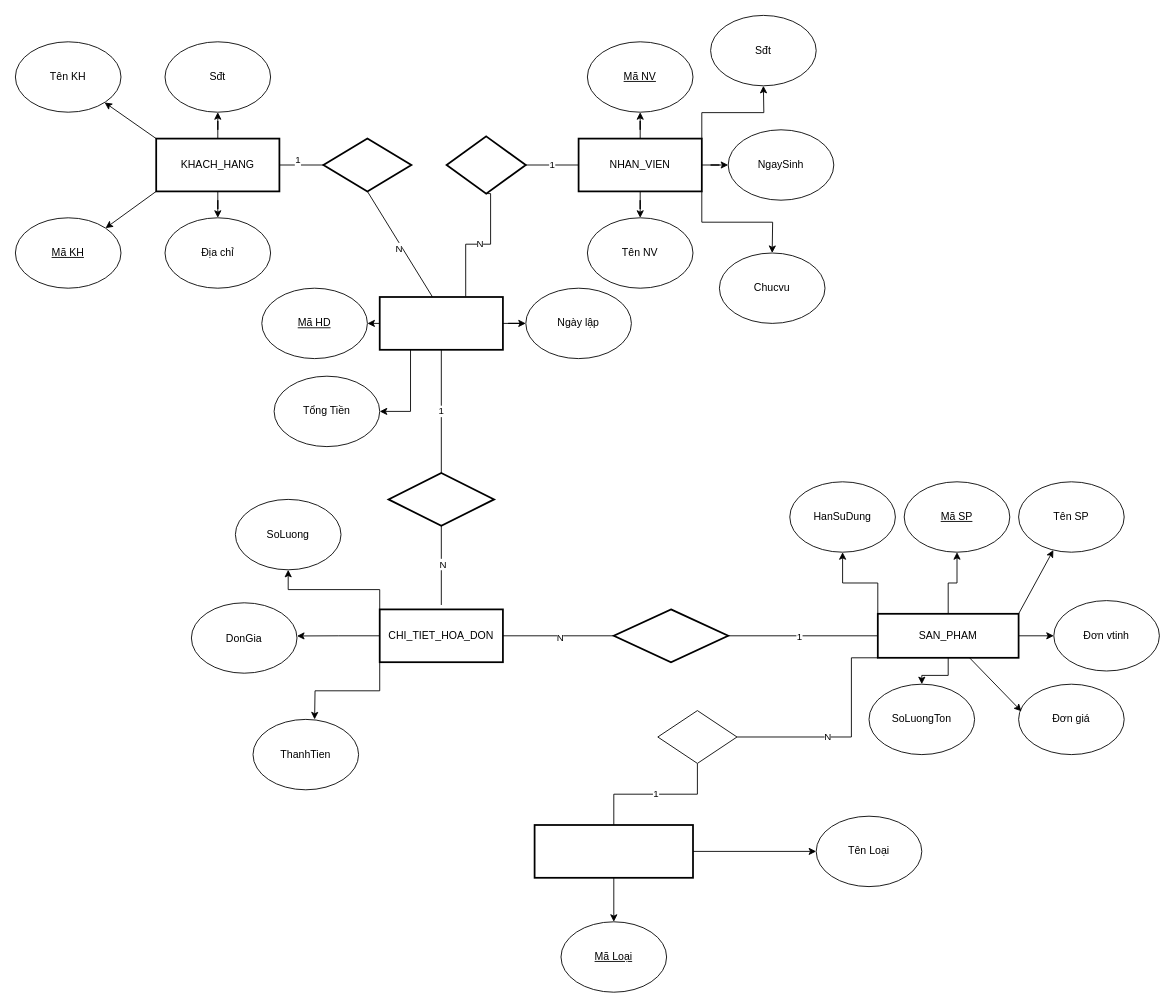
Some shapes in this 1175 by 1008 pixel diagram are drawn without their labels. The box of each missing label's shape, as (x1, y1, x2, y2) in pixels:
Có (1-N): (387, 472, 495, 526)
HOA_DON: (378, 296, 503, 350)
LOAI_SAN_PHAM: (533, 824, 693, 878)
Lập (1-N): (445, 135, 526, 194)
Mua (1-N): (322, 137, 412, 192)
Nằm trong ( 1-N): (612, 608, 729, 663)
Thuộc (1-N): (657, 710, 737, 763)
